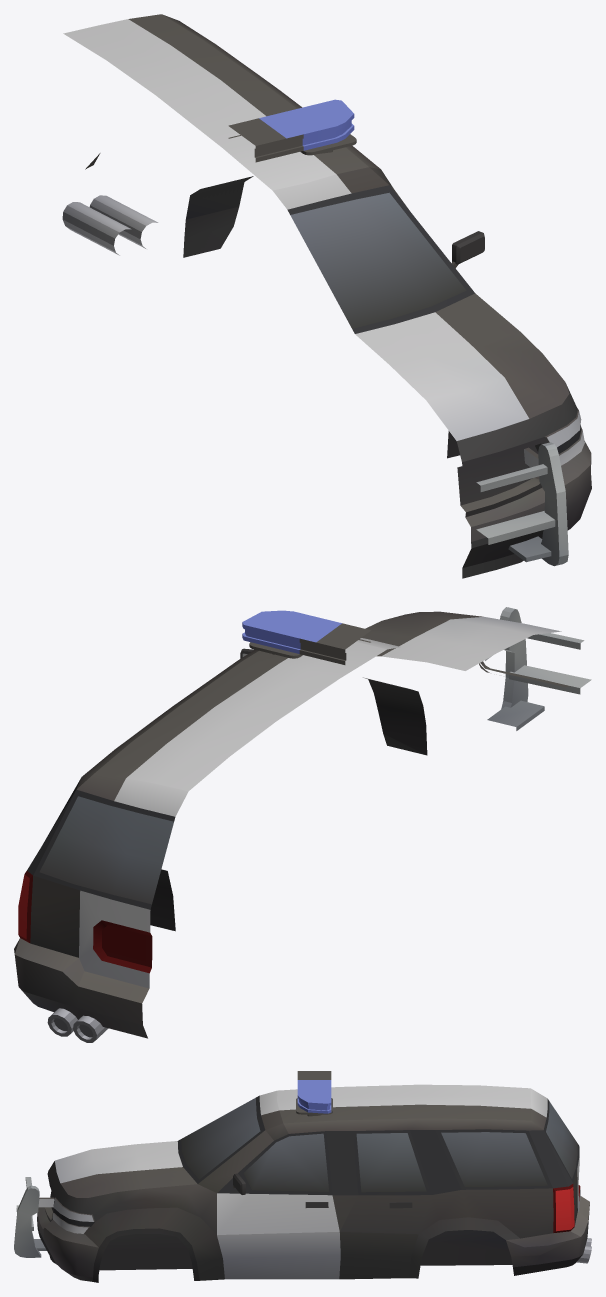
Rendered from car5.glb.
3 views of the same model, one above another, from view 1: azimuth 30°, elevation 25°; view 2: azimuth 150°, elevation 25°; view 3: azimuth 270°, elevation 25° (orthographic). The views are drawn at different scales.
Visible parts, largest first — view 1: car5; view 2: car5; view 3: car5.
Part boxes in pixels (x1,y1,x2,y2): car5: [62, 14, 591, 578]; car5: [14, 607, 591, 1042]; car5: [14, 1071, 591, 1282].
Size of the model in its own units: 0.2792 by 0.4112 by 1.26.
